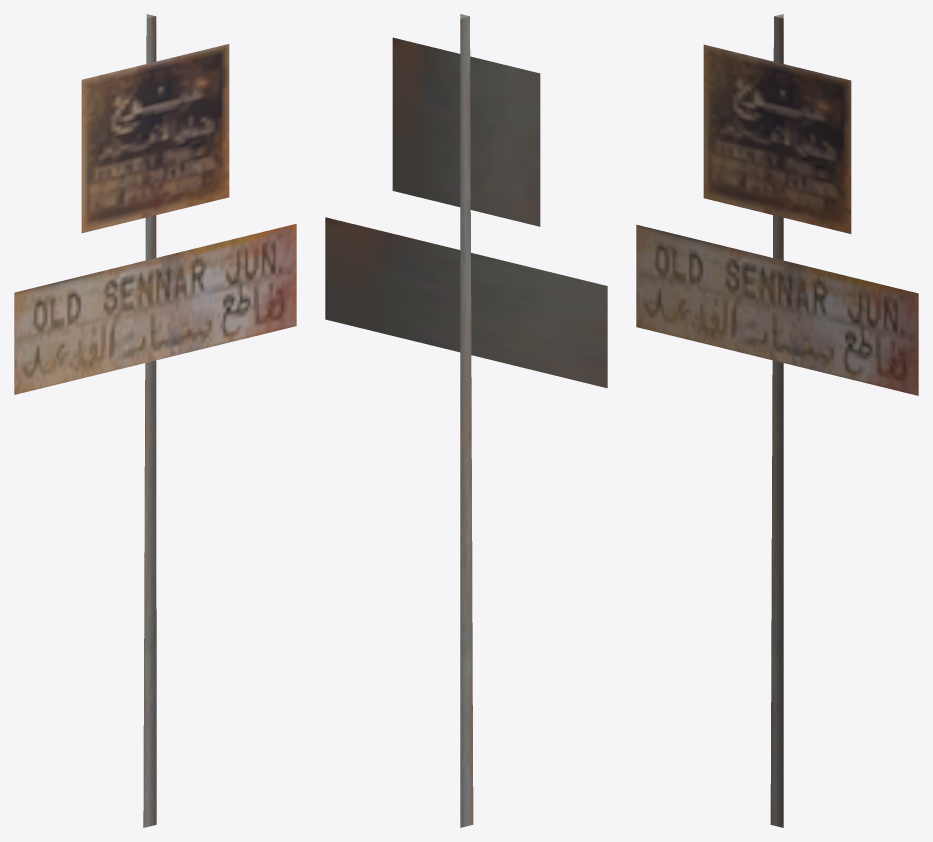
Rendered from Environment - Vegetation - Street Sign 04 - PMSign04.glb.
3 renders of one model, left to right at view 1: azimuth 30°, elevation 25°; view 2: azimuth 150°, elevation 25°; view 3: azimuth 330°, elevation 25°, orthographic.
Parts seen in each view (by area): view 1: PMSIGN04; view 2: PMSIGN04; view 3: PMSIGN04.
Boxes of the visible parts, x1,y1,x2,y2 form: PMSIGN04: (14, 14, 296, 827); PMSIGN04: (325, 14, 607, 827); PMSIGN04: (636, 14, 918, 827).
Bounding box in the file's own units: 7.15 × 19.57 × 0.4049.
Materials: 1 (1 with a texture image).
